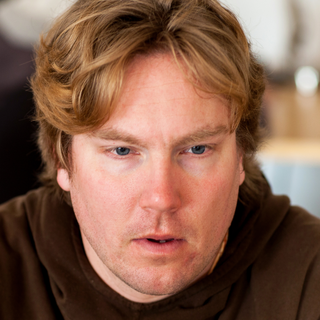eye: (174, 139, 219, 163), (99, 140, 145, 163)
